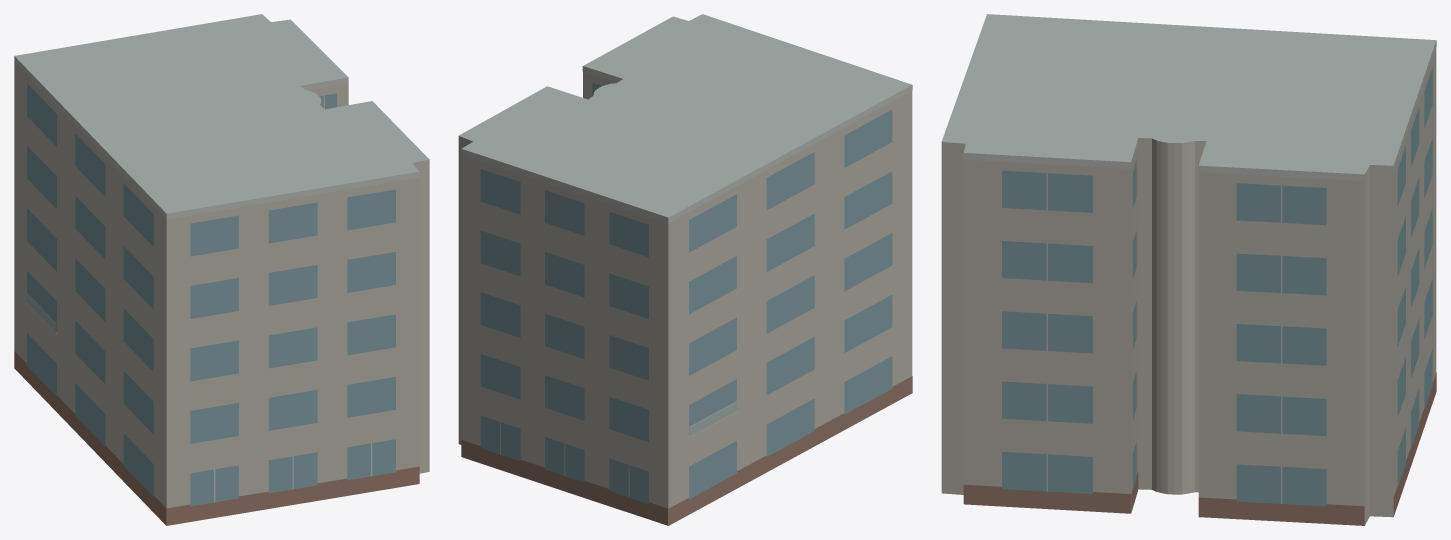
Rendered from survey-upis-32890806.glb.
3 renders of one model, left to right at view 1: azimuth 30°, elevation 25°; view 2: azimuth 150°, elevation 25°; view 3: azimuth 270°, elevation 25°, orthographic. The views are drawn at different scales.
Parts seen in each view (by area): view 1: survey-upis-32890806.tmp; view 2: survey-upis-32890806.tmp; view 3: survey-upis-32890806.tmp.
Part boxes in pixels (x1,y1,x2,y2): survey-upis-32890806.tmp: (14,14,429,525); survey-upis-32890806.tmp: (458,14,912,525); survey-upis-32890806.tmp: (941,14,1436,525).
Size of the model in its own units: 12.73 by 13 by 16.6.
